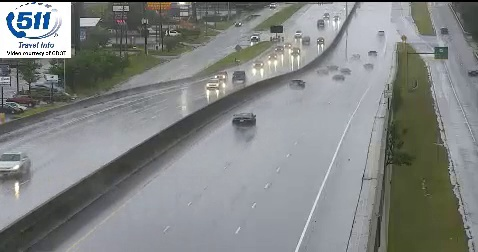car: (231, 112, 256, 128)
